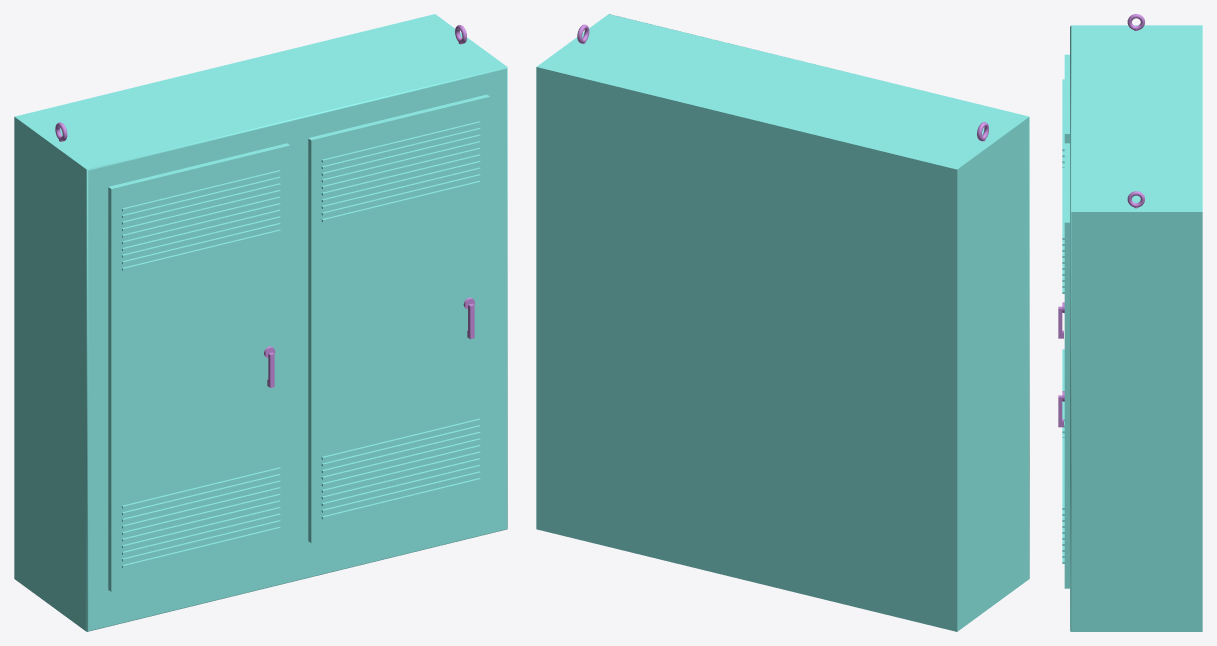
Rendered from iLogic.FBX.
The picture shows the model from 3 angles, left to right: view 1: azimuth 30°, elevation 25°; view 2: azimuth 150°, elevation 25°; view 3: azimuth 270°, elevation 25°; orthographic projection. The views are drawn at different scales.
Parts seen in each view (by area): view 1: 60_沒有, 60_上, 45_沒有, 60_下, 45_都要, 35_沒有, 45_上, 45_下, 35_上; view 2: 60_上, 60_沒有, 45_沒有, 45_下, 45_上, 35_沒有, 45_都要, 35_上, 35_下; view 3: 60_沒有, 35_沒有, 35_上, 45_沒有, 45_上, 45_下, 60_上, 35_下, 45_都要, 60_下.
Part boxes in pixels (x1,y1,x2,y2): 60_沒有: (14,14,507,631); 60_上: (14,24,506,631); 45_沒有: (23,20,497,440); 60_下: (122,144,480,568); 45_都要: (23,30,465,624); 35_沒有: (32,28,466,457); 45_上: (23,125,77,505); 45_下: (23,124,77,460); 35_上: (32,25,462,384); 60_上: (536,16,1029,631); 60_沒有: (536,14,1029,621); 45_沒有: (546,20,1019,434); 45_下: (966,124,1020,588); 45_上: (966,125,1020,507); 35_沒有: (582,27,1011,429); 45_都要: (966,122,1020,624); 35_上: (577,26,995,442); 35_下: (582,24,1011,479); 60_沒有: (1058,14,1202,631); 35_沒有: (1104,17,1169,631); 35_上: (1104,14,1169,631); 45_沒有: (1087,14,1185,630); 45_上: (1087,212,1185,631); 45_下: (1087,212,1185,631); 60_上: (1062,14,1195,499); 35_下: (1104,191,1169,631); 45_都要: (1087,14,1176,448); 60_下: (1062,55,1069,563).
Bounding box in the file's own units: 200 × 65.3 × 218.
